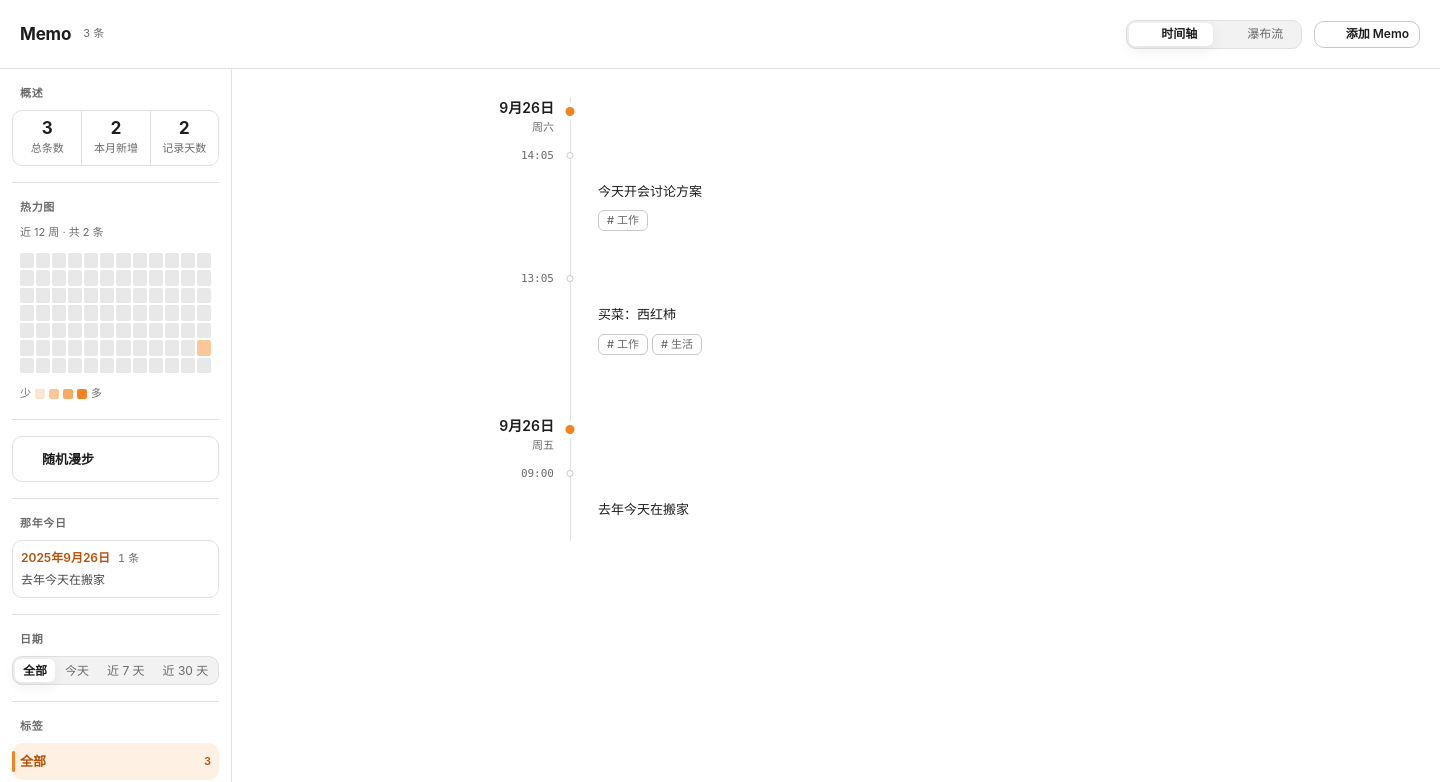
Test case: 视图切换与图册 › 点图册瓦片：切回时间轴并高亮那一条
Click the button "瀑布流": click(1257, 34) x1=1215 y1=22 x2=1299 y2=46
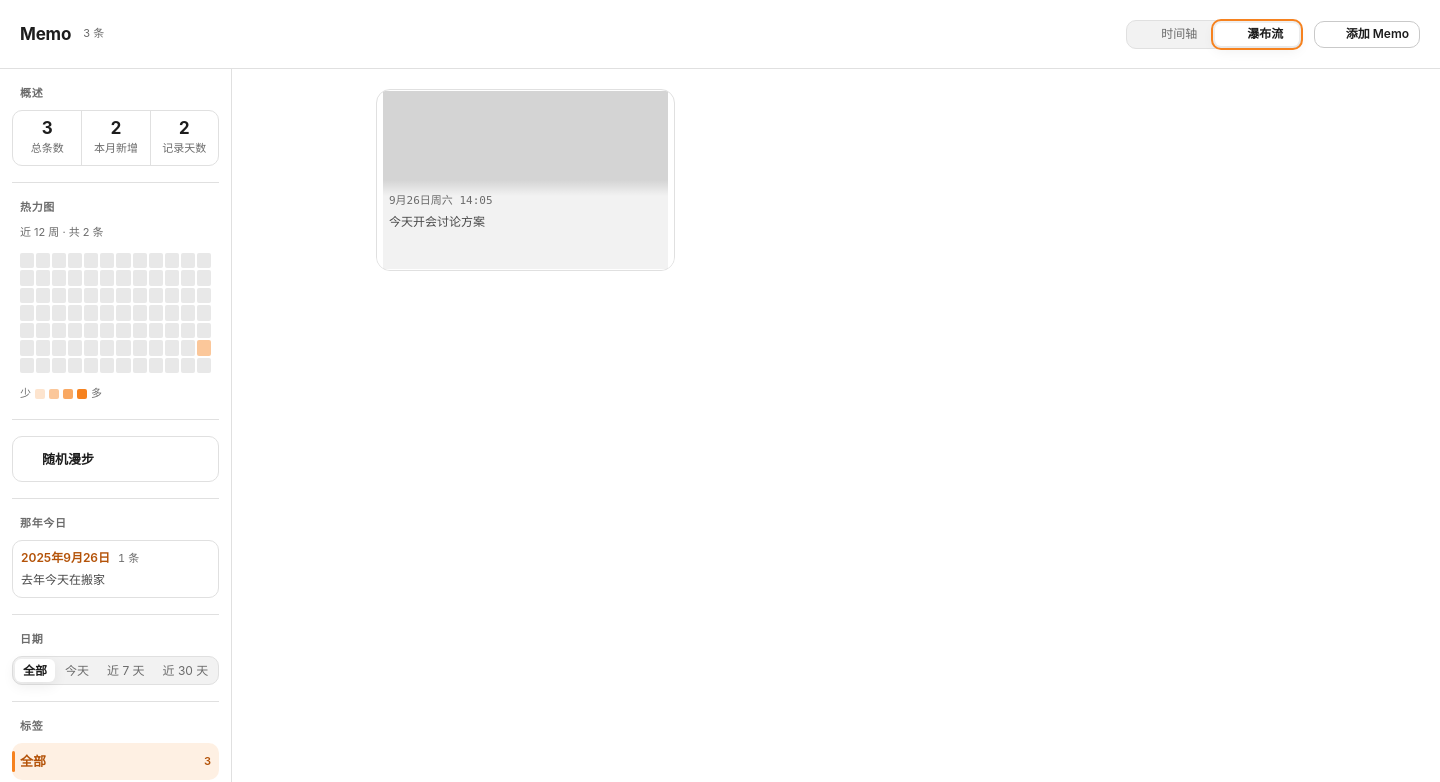
Click the button with class "wf__open": click(525, 180) x1=377 y1=90 x2=674 y2=270
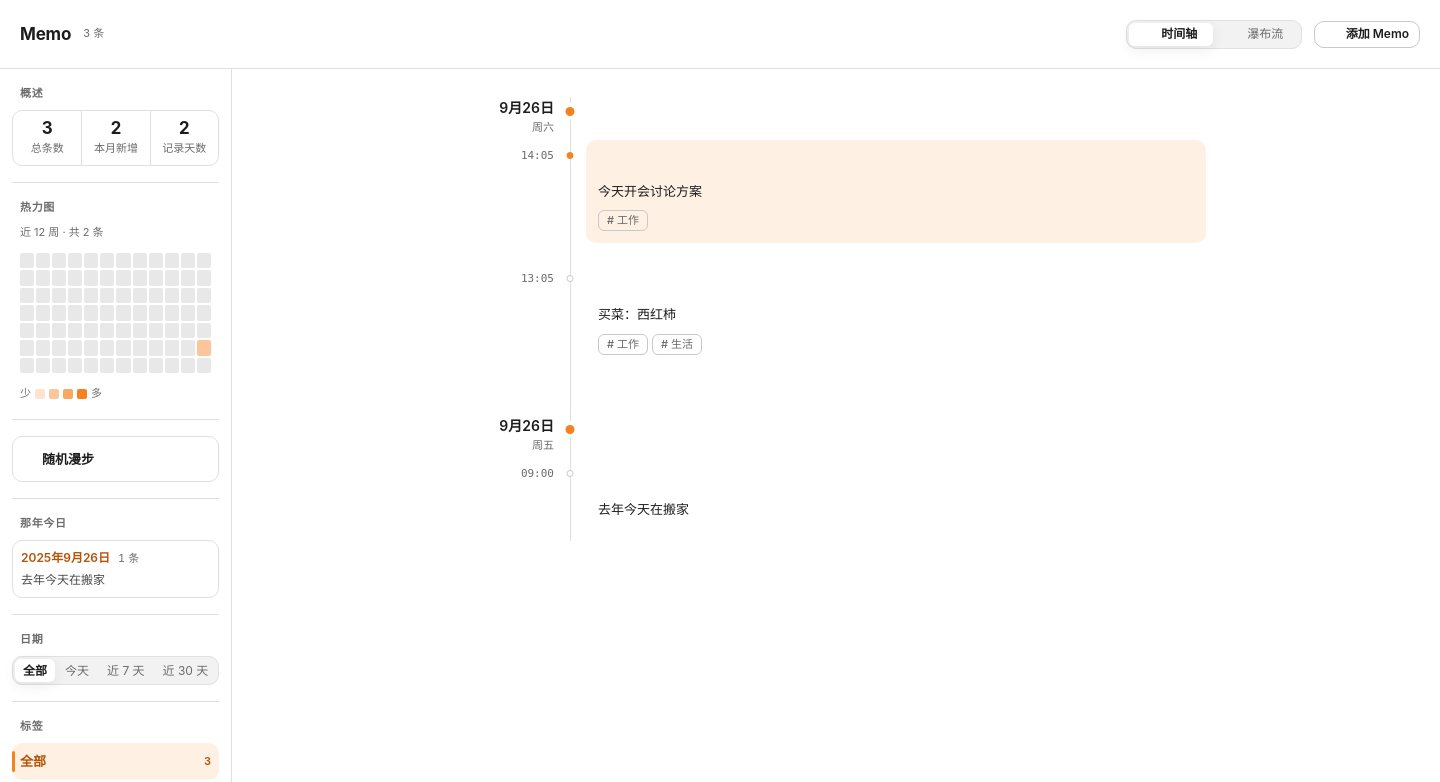
Check: the element with class "timeline" is shown, box x1=466 y1=89 x2=1206 y2=549
Check: the element with class "is-walked" is shown, box x1=466 y1=136 x2=1206 y2=260
